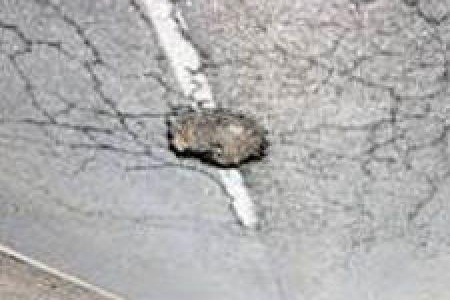pothole: (162, 102, 272, 171)
